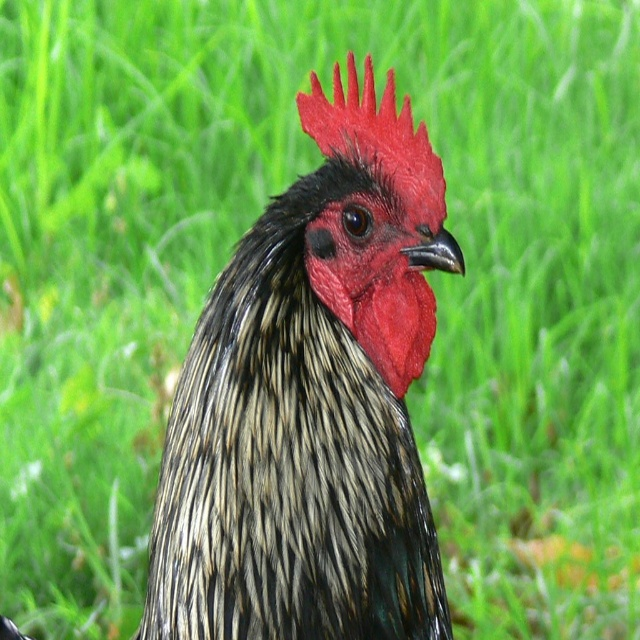Chicken: (144, 56, 462, 640)
